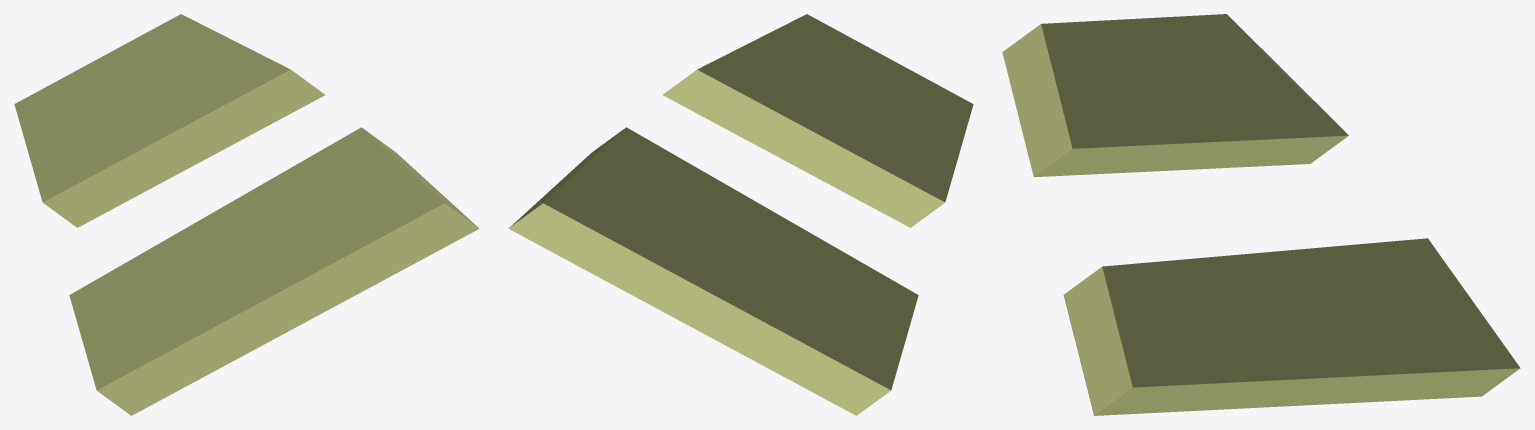
3 renders of one model, left to right at view 1: azimuth 30°, elevation 25°; view 2: azimuth 150°, elevation 25°; view 3: azimuth 330°, elevation 25°, orthographic. The views are drawn at different scales.
Parts seen in each view (by area): view 1: 0_1_3_2_2_2_2_3_2; view 2: 0_1_3_2_2_2_2_3_2; view 3: 0_1_3_2_2_2_2_3_2.
Boxes of the visible parts, x1,y1,x2,y2 form: 0_1_3_2_2_2_2_3_2: (14, 14, 479, 415); 0_1_3_2_2_2_2_3_2: (508, 14, 973, 415); 0_1_3_2_2_2_2_3_2: (1002, 14, 1520, 415).
Bounding box in the file's own units: 42.85 × 33.86 × 6.
